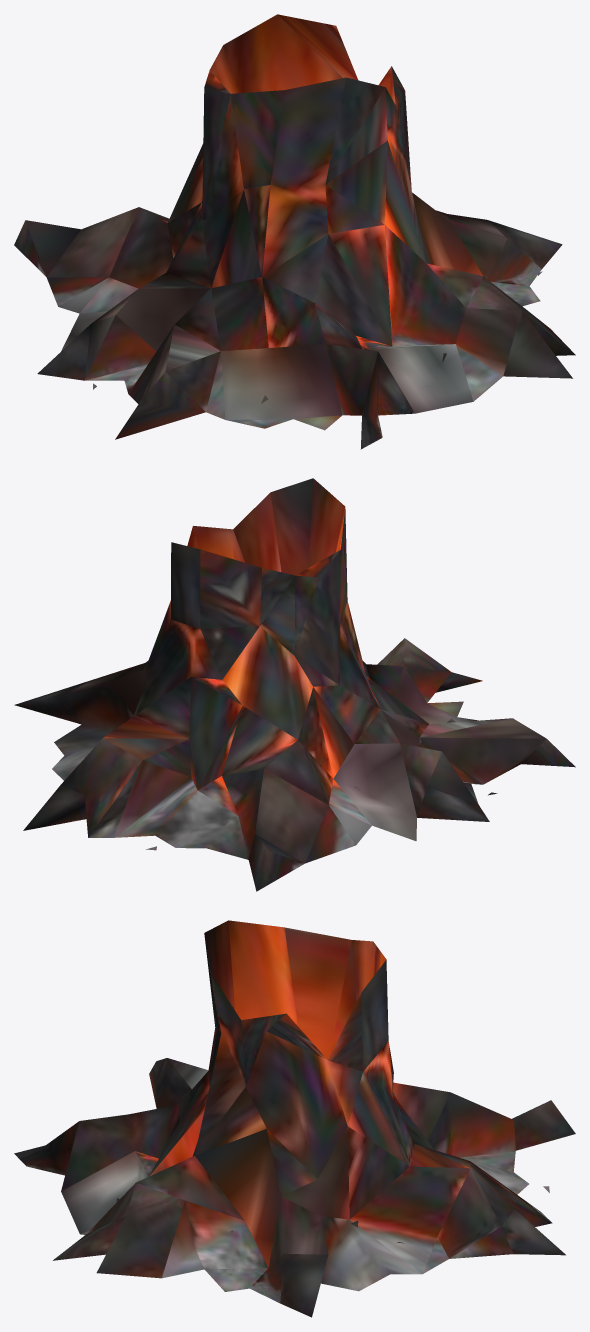
The model's file is k-souche-semis.glb.
The picture shows the model from 3 angles, top to bottom: view 1: azimuth 30°, elevation 25°; view 2: azimuth 150°, elevation 25°; view 3: azimuth 270°, elevation 25°; orthographic projection. The views are drawn at different scales.
Parts seen in each view (by area): view 1: k-souche-semis; view 2: k-souche-semis; view 3: k-souche-semis.
Boxes of the visible parts, bbox=[...] form: k-souche-semis: bbox=[14, 14, 575, 449]; k-souche-semis: bbox=[14, 478, 575, 891]; k-souche-semis: bbox=[14, 920, 575, 1317].
Size of the model in its own units: 0.9668 by 0.5027 by 0.9363.
1 material, 1 textured.
